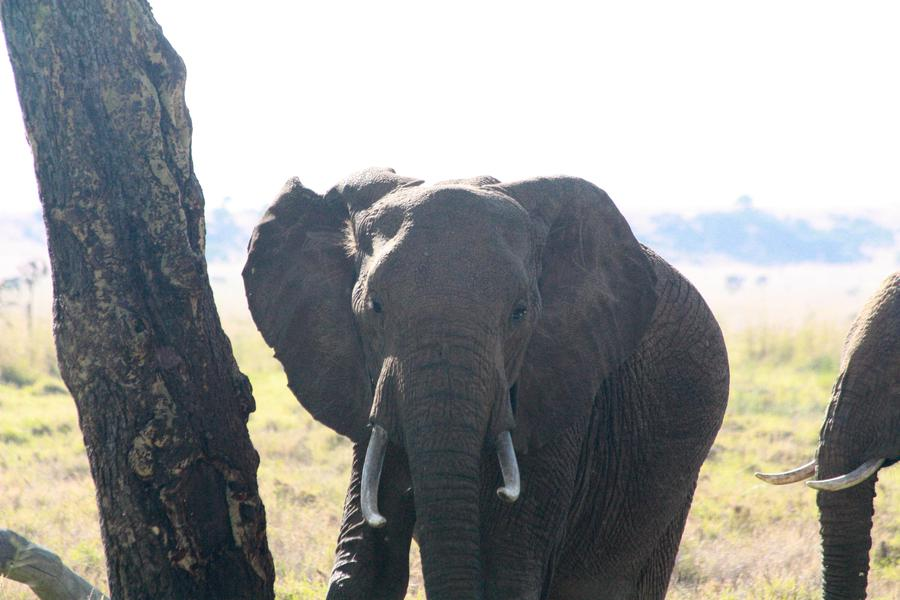elephant: (231, 156, 649, 584)
